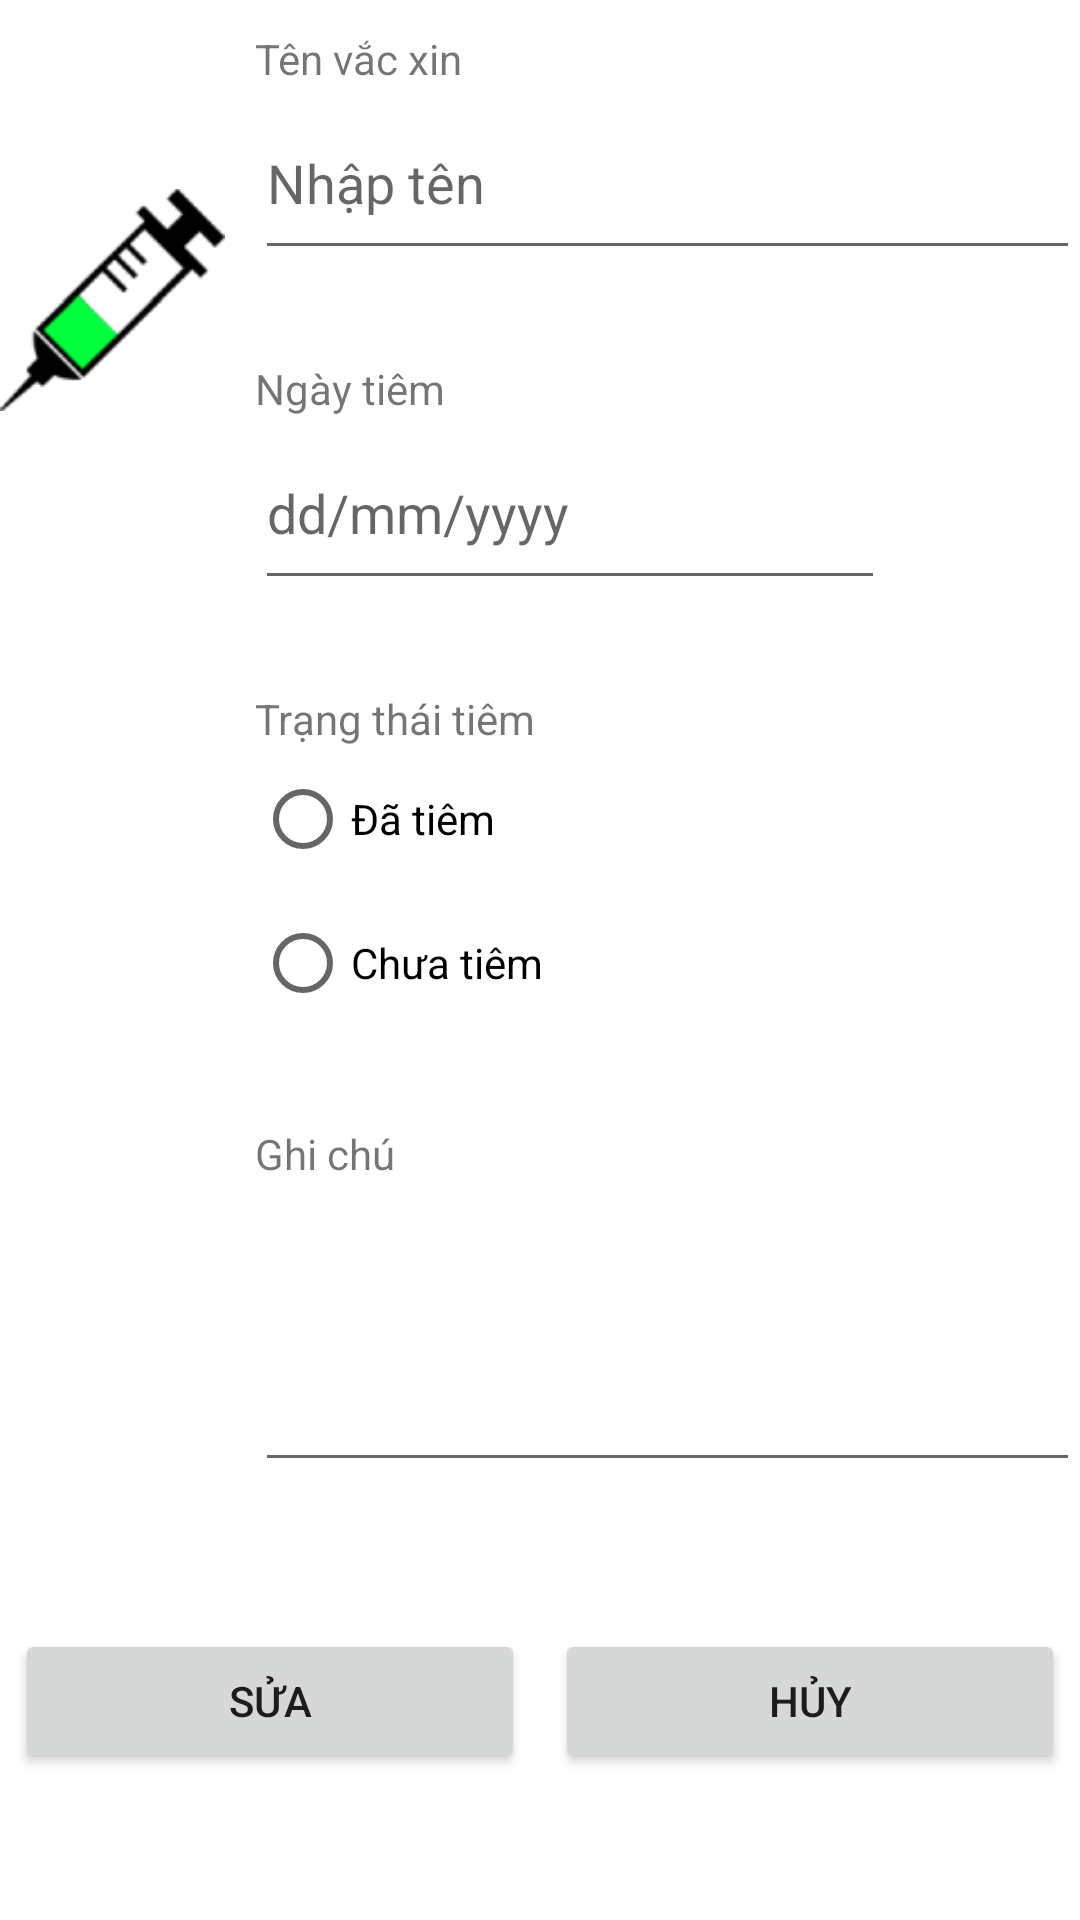

Icon click points for this 1080px x 1920px phone screenshot, format (x,y):
needle: (112,300)
